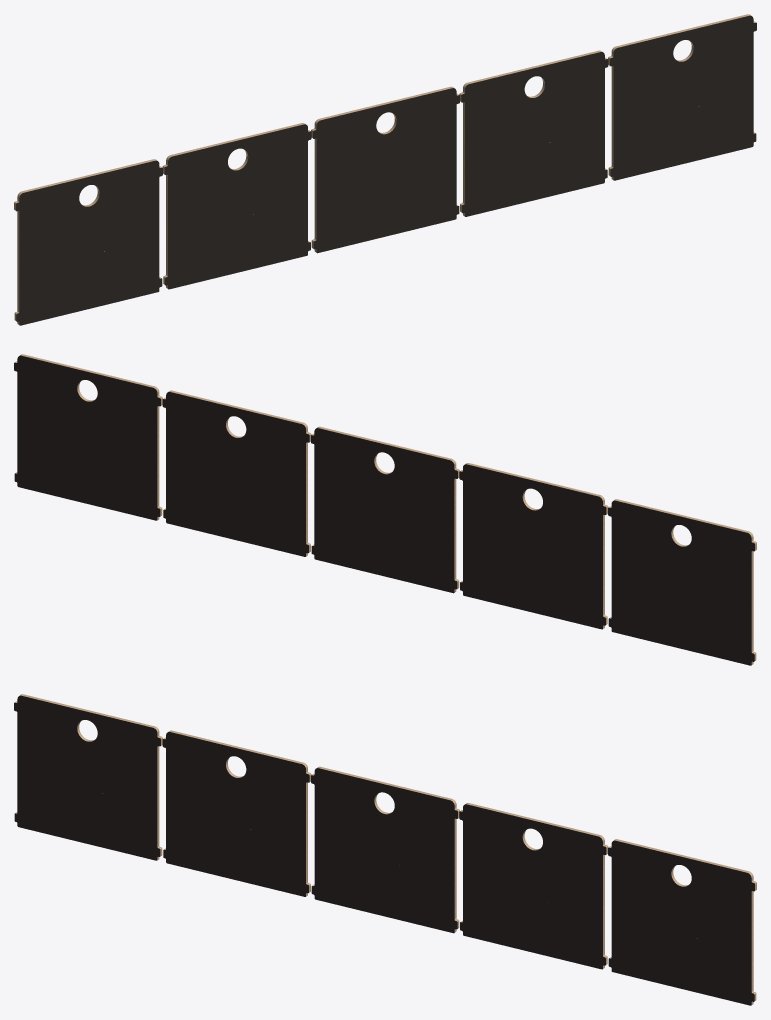
File: Container-Esipaneelid_Pos1-5_FIN_v1.glb
3 views of the same model, one above another, from view 1: azimuth 30°, elevation 25°; view 2: azimuth 150°, elevation 25°; view 3: azimuth 330°, elevation 25° (orthographic).
Parts seen in each view (by area): view 1: Container_Esipaneel_Pos1_Energy_FIN (×5), Container_Esipaneel_Pos1_Glass_FIN (×5), Container_Esipaneel_Pos1_Paper_FIN (×5), Container_Esipaneel_Pos1_Metal_FIN (×5), Container_Esipaneel_Pos1_Waste_FIN (×4), Container_Esipaneel_Pos1_Bio_FIN (×3), Container_Esipaneel_Pos1_Plastic_FIN; view 2: Container_Esipaneel_Pos1_Bio_FIN (×5), Container_Esipaneel_Pos1_Energy_FIN; view 3: Container_Esipaneel_Pos1_Energy_FIN (×5), Container_Esipaneel_Pos1_Glass_FIN (×5), Container_Esipaneel_Pos1_Paper_FIN (×5), Container_Esipaneel_Pos1_Metal_FIN (×5), Container_Esipaneel_Pos1_Waste_FIN (×4), Container_Esipaneel_Pos1_Bio_FIN (×3), Container_Esipaneel_Pos1_Plastic_FIN.
Boxes of the visible parts, x1,y1,x2,y2 form: Container_Esipaneel_Pos1_Energy_FIN (×5): (14, 14, 756, 325); Container_Esipaneel_Pos1_Glass_FIN (×5): (45, 75, 712, 293); Container_Esipaneel_Pos1_Paper_FIN (×5): (58, 73, 714, 292); Container_Esipaneel_Pos1_Metal_FIN (×5): (50, 87, 712, 294); Container_Esipaneel_Pos1_Waste_FIN (×4): (214, 73, 710, 261); Container_Esipaneel_Pos1_Bio_FIN (×3): (14, 50, 607, 324); Container_Esipaneel_Pos1_Plastic_FIN: (356, 157, 413, 213); Container_Esipaneel_Pos1_Bio_FIN (×5): (14, 354, 756, 665); Container_Esipaneel_Pos1_Energy_FIN: (610, 499, 756, 664); Container_Esipaneel_Pos1_Energy_FIN (×5): (14, 694, 756, 1005); Container_Esipaneel_Pos1_Glass_FIN (×5): (45, 752, 710, 975); Container_Esipaneel_Pos1_Paper_FIN (×5): (56, 750, 712, 978); Container_Esipaneel_Pos1_Metal_FIN (×5): (49, 759, 710, 963); Container_Esipaneel_Pos1_Waste_FIN (×4): (209, 786, 709, 975); Container_Esipaneel_Pos1_Bio_FIN (×3): (15, 694, 756, 1004); Container_Esipaneel_Pos1_Plastic_FIN: (354, 832, 413, 891).
Size of the model in its own units: 1.38 by 0.2358 by 0.00631.
3 materials, 2 textured.
